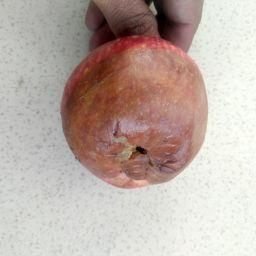apple: (45, 26, 231, 203)
